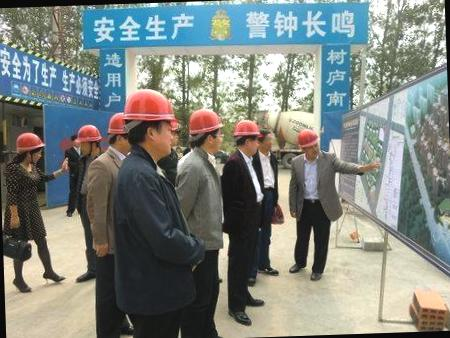helmet: (119, 88, 176, 118), (187, 107, 221, 132), (14, 132, 46, 150), (73, 124, 101, 142), (232, 118, 260, 134), (297, 128, 320, 146)
no_vest: (124, 160, 192, 306), (290, 154, 340, 219), (230, 154, 266, 228), (8, 165, 42, 230)
person: (113, 85, 200, 338), (178, 104, 228, 338), (1, 133, 65, 290), (225, 120, 270, 329), (280, 128, 340, 278)
